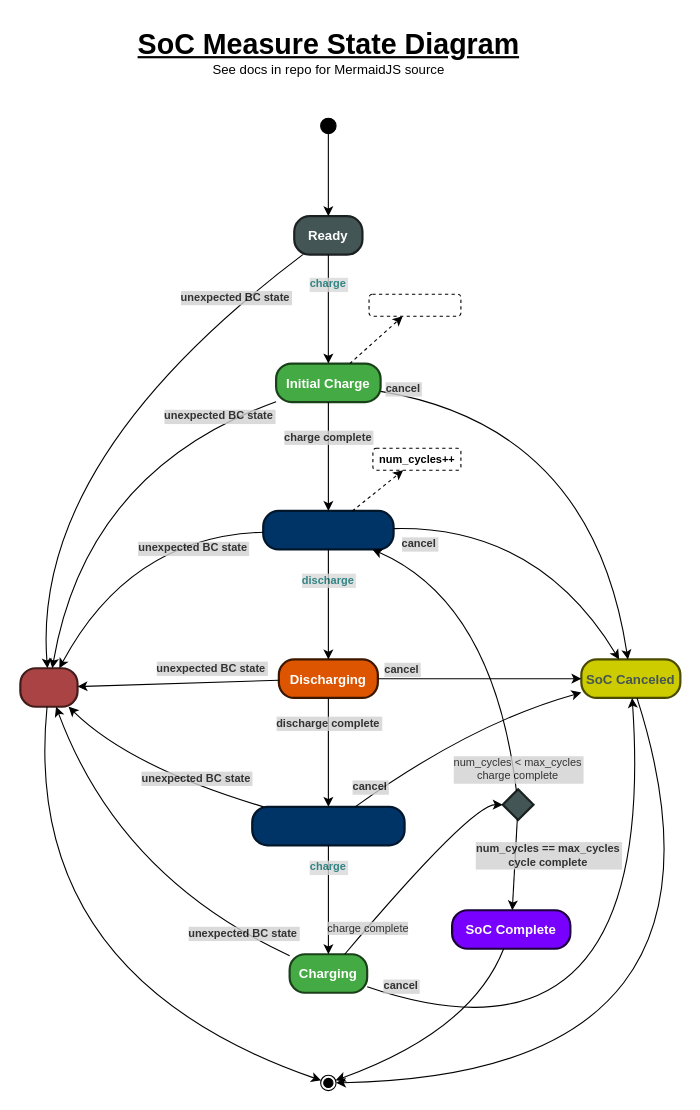
This 700x1110 diagram has some shape labels left out. The shapes that lost their labels are listed below. From the top down, each one's centre as x and y in pixels, then its label:
At point 414,304: "num_cycles = 0".
At point 328,529: "Rest post charge".
At point 48,687: "Error".
At point 328,825: "Rest post discharge".
